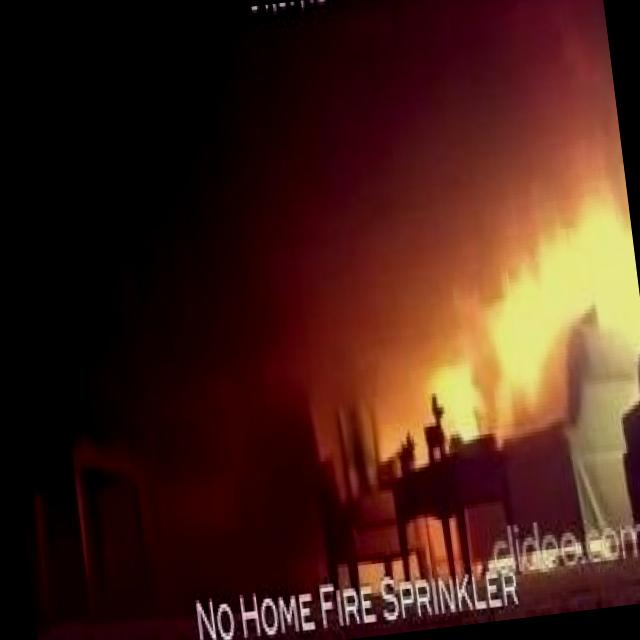fire: (370, 174, 640, 465)
